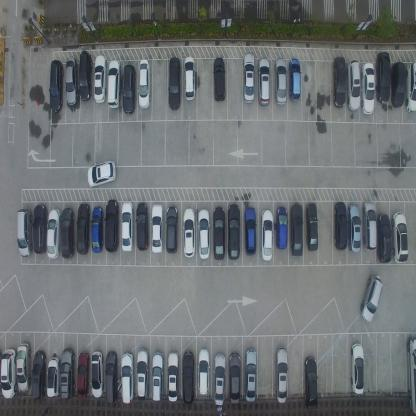car: (360, 272, 383, 324), (391, 210, 408, 264), (87, 158, 116, 189), (0, 348, 17, 400), (303, 354, 318, 412), (346, 59, 362, 113), (15, 208, 32, 258), (75, 203, 91, 256), (289, 202, 304, 258), (104, 198, 119, 254), (375, 50, 390, 105), (46, 206, 61, 261), (32, 204, 48, 255), (274, 346, 288, 404), (16, 342, 32, 392), (360, 62, 375, 115), (60, 207, 75, 260), (350, 342, 365, 395), (405, 336, 415, 415), (121, 64, 136, 116), (120, 352, 135, 404), (60, 347, 75, 399), (32, 349, 47, 401), (49, 58, 63, 113), (390, 61, 406, 109), (362, 200, 377, 251), (377, 213, 392, 264), (78, 51, 93, 102), (227, 202, 240, 260), (333, 201, 348, 251), (260, 209, 274, 262), (136, 348, 150, 401), (332, 56, 346, 108), (168, 56, 181, 112), (107, 58, 121, 110), (182, 207, 196, 259), (213, 351, 226, 407), (151, 352, 165, 403), (244, 348, 257, 402), (105, 351, 118, 405), (304, 202, 318, 252), (347, 203, 361, 253), (76, 350, 90, 400), (242, 51, 255, 104), (138, 58, 151, 111), (243, 207, 257, 256), (288, 57, 302, 106), (65, 55, 78, 107), (274, 58, 288, 106), (213, 205, 225, 261), (94, 53, 107, 104), (182, 350, 194, 405), (165, 205, 178, 255), (121, 199, 133, 253), (197, 347, 210, 396), (198, 207, 210, 260), (167, 350, 179, 403), (151, 203, 163, 255), (136, 200, 148, 252), (258, 57, 270, 108), (213, 55, 226, 102), (183, 55, 196, 102), (91, 348, 103, 398), (229, 351, 240, 405), (91, 205, 103, 254), (46, 357, 60, 398), (276, 205, 288, 250), (405, 60, 415, 113)
